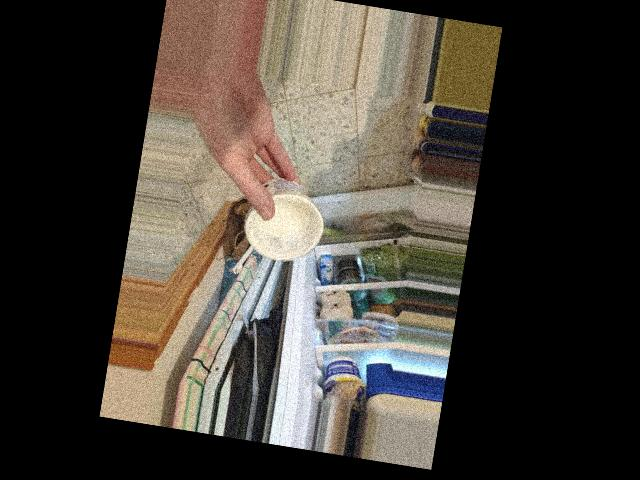cotage: (236, 172, 316, 267)
